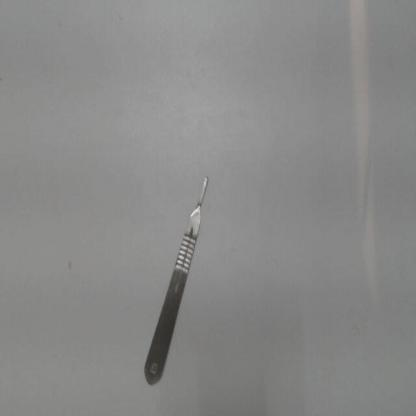No.3 BP Handle: (135, 169, 219, 392)
